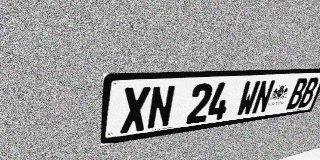2: (186, 83, 214, 124)
4: (206, 82, 233, 121)
B: (286, 78, 309, 110), (297, 77, 320, 108)
N: (146, 85, 176, 130), (251, 80, 276, 115)
W: (235, 80, 261, 117)
X: (120, 86, 151, 134)
